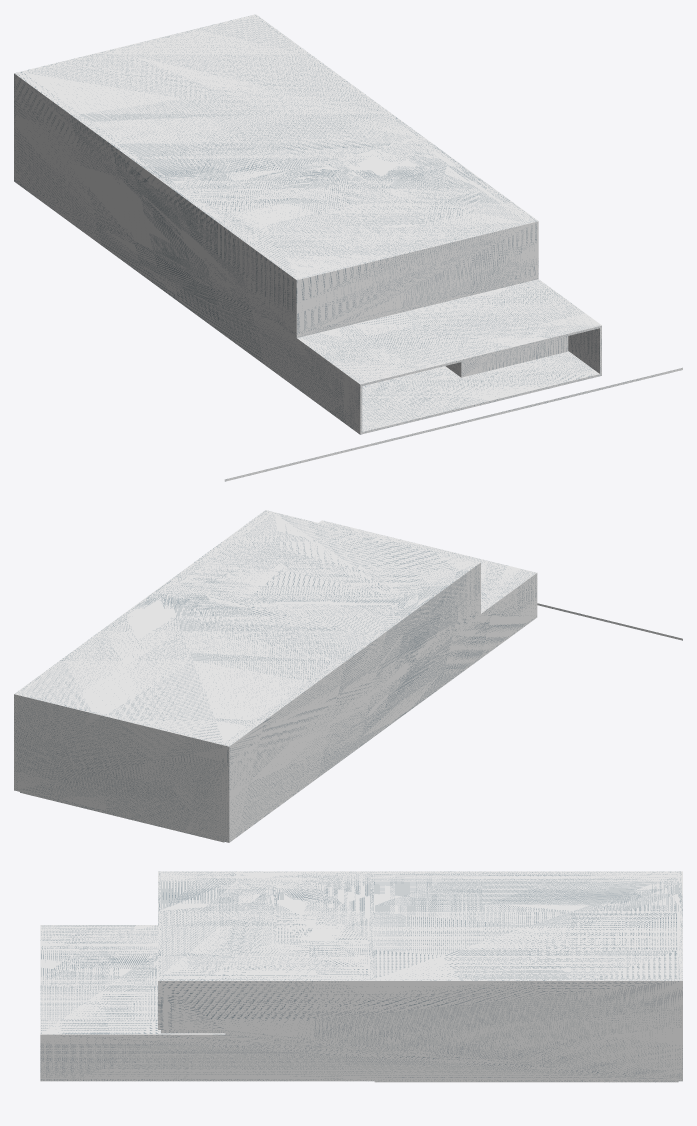
3 views of the same model, one above another, from view 1: azimuth 30°, elevation 25°; view 2: azimuth 150°, elevation 25°; view 3: azimuth 270°, elevation 25° (orthographic). The views are drawn at different scales.
Visible parts, largest first — view 1: SketchUp (×2); view 2: SketchUp; view 3: SketchUp.
Boxes of the visible parts, x1,y1,x2,y2 form: SketchUp (×2): (14, 14, 682, 481); SketchUp: (14, 510, 537, 842); SketchUp: (40, 871, 682, 1082).
Size of the model in its own units: 1483 by 2021 by 345.
